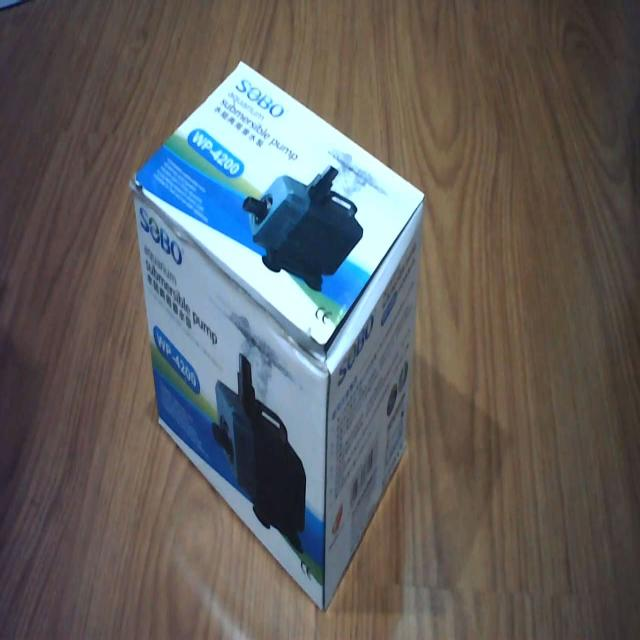SOBO_WP_4200: (125, 49, 428, 618)
